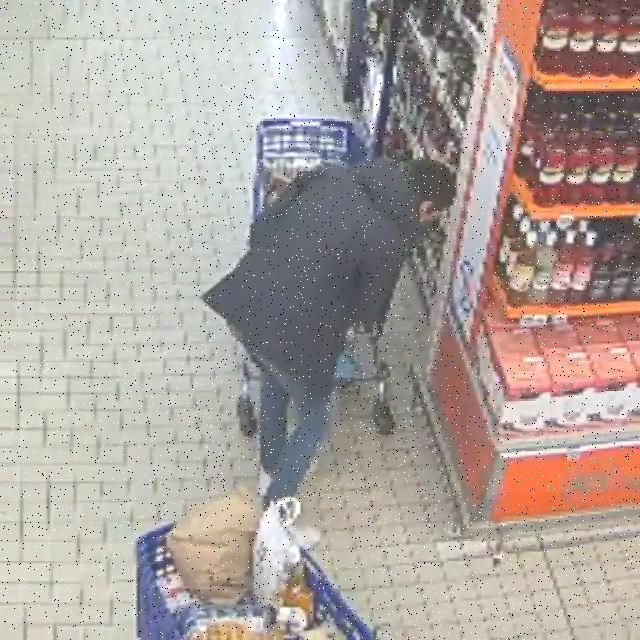person: (203, 158, 455, 508)
